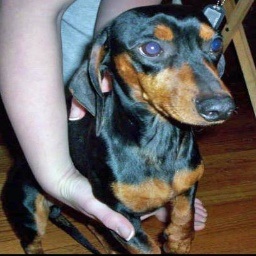dog: (4, 3, 237, 256)
